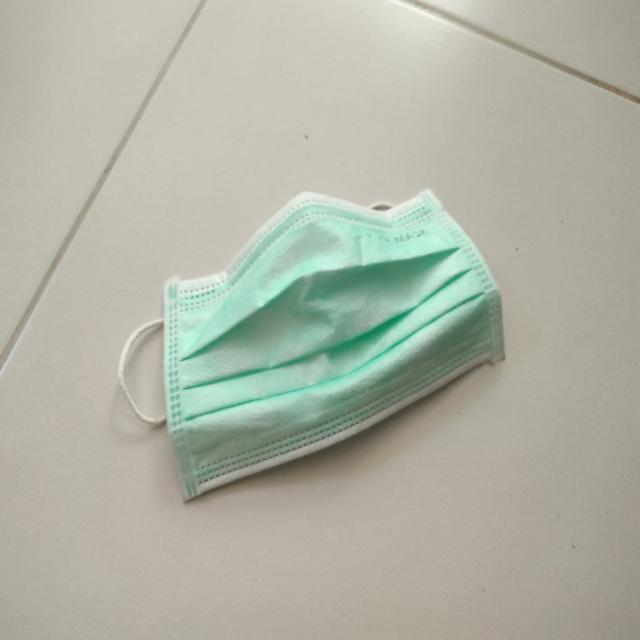non-organic waste: (129, 193, 506, 496)
